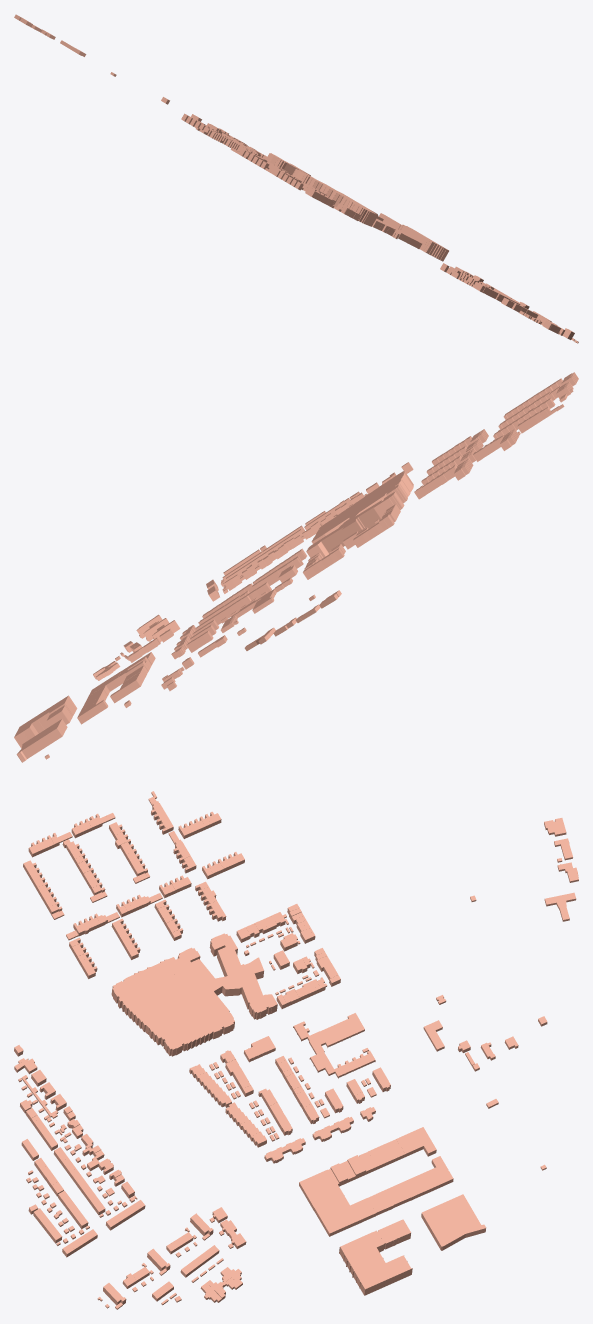
The picture shows the model from 3 angles, top to bottom: view 1: azimuth 30°, elevation 25°; view 2: azimuth 150°, elevation 25°; view 3: azimuth 270°, elevation 25°; orthographic projection. The views are drawn at different scales.
Size of the model in its own units: 488 by 373 by 591.
